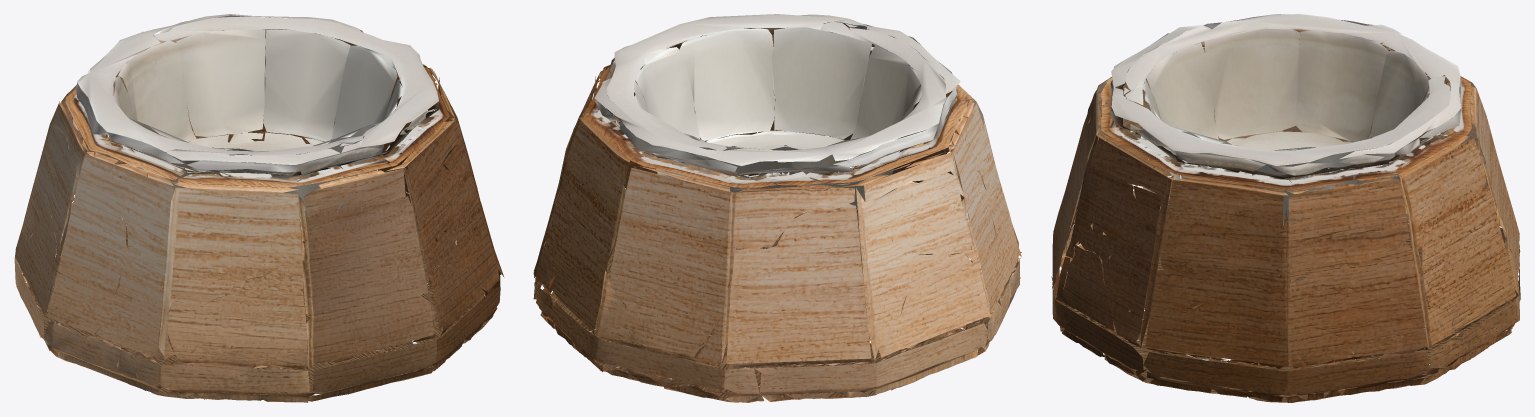
Rendered from P_FoodBowl_h8.fbx.
The picture shows the model from 3 angles, left to right: view 1: azimuth 30°, elevation 25°; view 2: azimuth 150°, elevation 25°; view 3: azimuth 270°, elevation 25°; orthographic projection.
Visible parts, largest first — view 1: surface_7; view 2: surface_7; view 3: surface_7.
Boxes of the visible parts, box(x1,y1,x2,y2) form: surface_7: box(14, 14, 504, 402); surface_7: box(533, 14, 1021, 402); surface_7: box(1051, 14, 1520, 402).
Size of the model in its own units: 2.03 by 1 by 1.94.
Materials: 1 (1 with a texture image).
